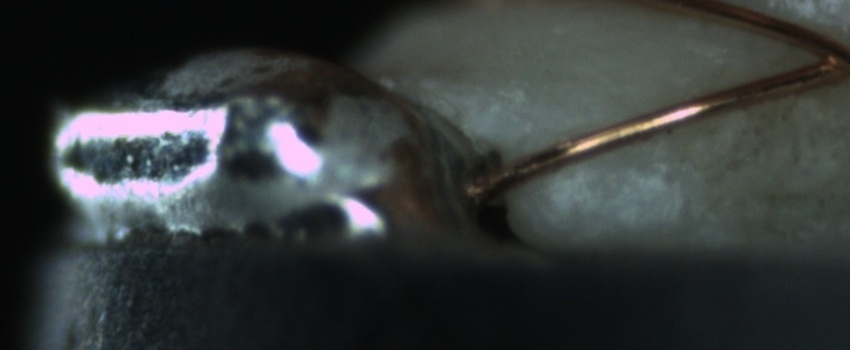CL: (796, 25, 850, 89)
